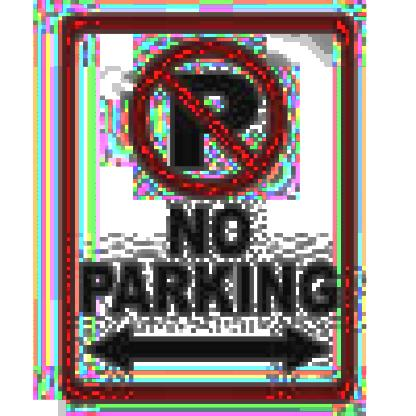No parking: (116, 38, 288, 204)
